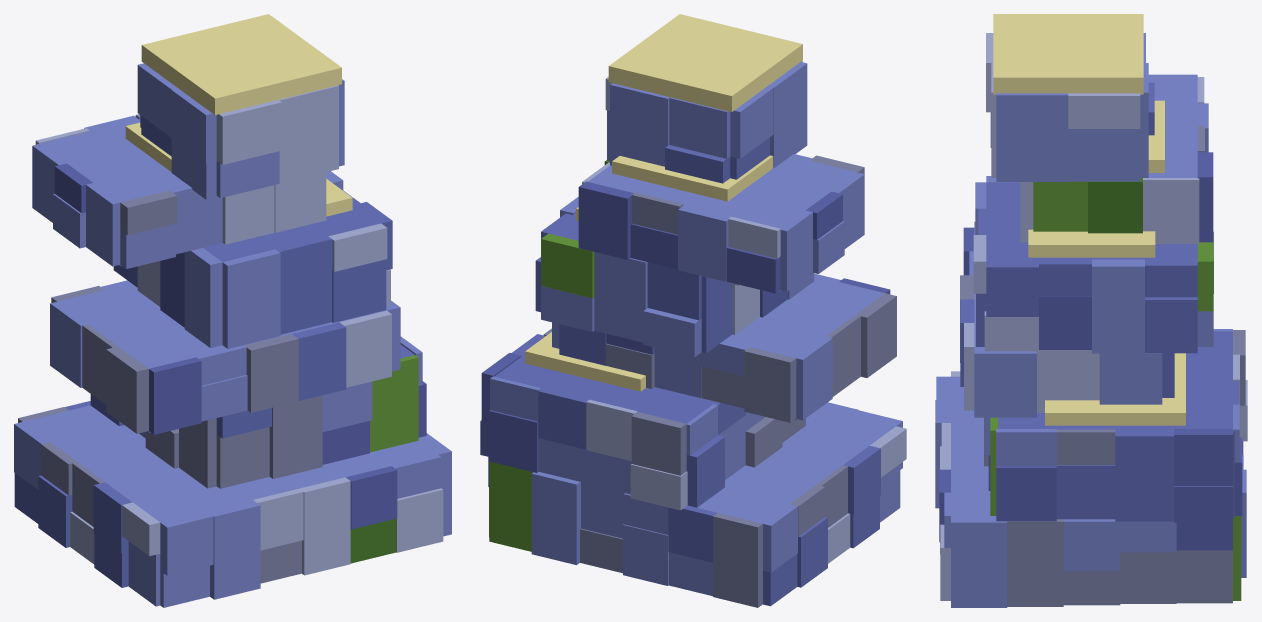
File: ReefPinnacle.glb
The picture shows the model from 3 angles, left to right: view 1: azimuth 30°, elevation 25°; view 2: azimuth 150°, elevation 25°; view 3: azimuth 270°, elevation 25°; orthographic projection. The views are drawn at different scales.
Visible parts, largest first — view 1: ReefPinnacle; view 2: ReefPinnacle; view 3: ReefPinnacle.
Boxes of the visible parts, x1,y1,x2,y2 form: ReefPinnacle: (14, 14, 451, 607); ReefPinnacle: (480, 14, 906, 607); ReefPinnacle: (935, 14, 1247, 607).
Size of the model in its own units: 15.38 by 22.8 by 13.29.
Materials: 1 (1 with a texture image).
